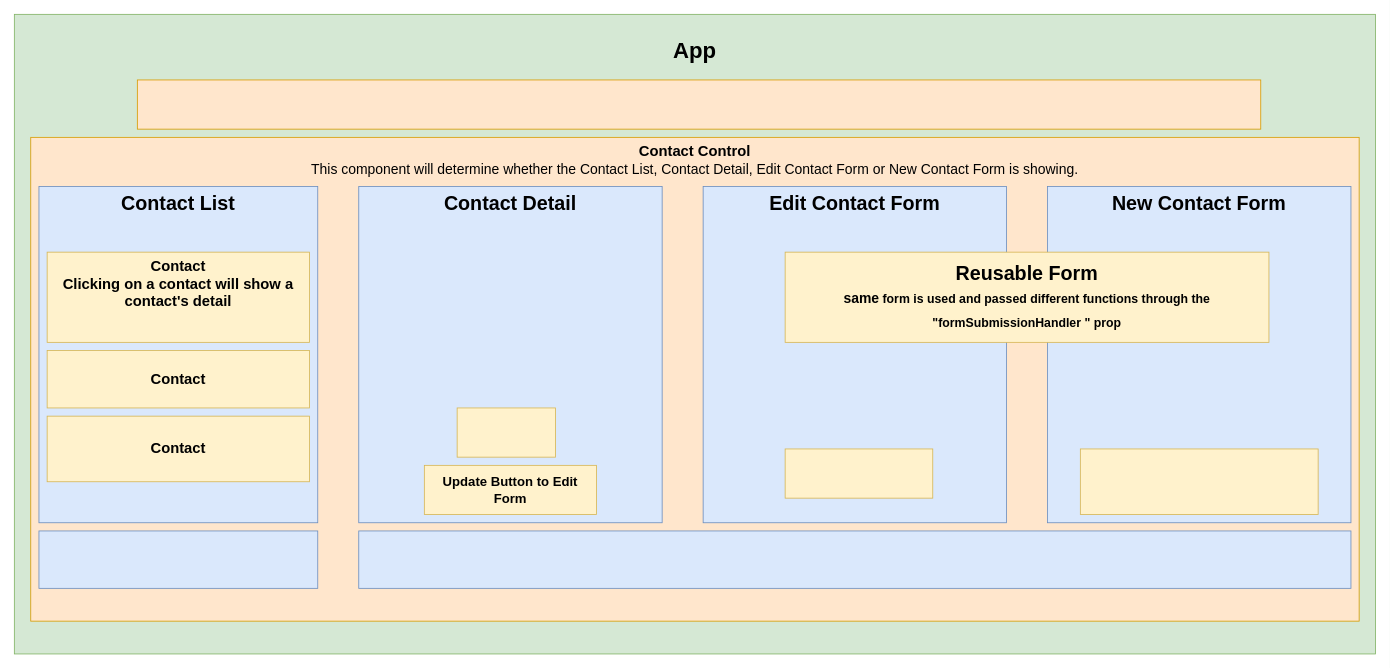
This 1390x668 diagram has some shape labels left out. Each missing label, with the centre of its shape:
"Add Contact Button Takes shows page one. Lives in Contact Control Component" belongs at [178,559].
"Confirm Update Button" belongs at [858,473].
"Delete Contact Button" belongs at [506,432].
"Header" belongs at [699,104].
"Submit Button Add contact and show ContactList" belongs at [1199,481].
"Ticket list Button shows ticket list" belongs at [854,559].
